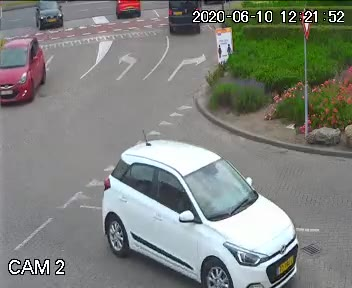car: (104, 128, 303, 288), (0, 39, 53, 109), (165, 1, 208, 38), (35, 0, 63, 30), (114, 0, 140, 19)
